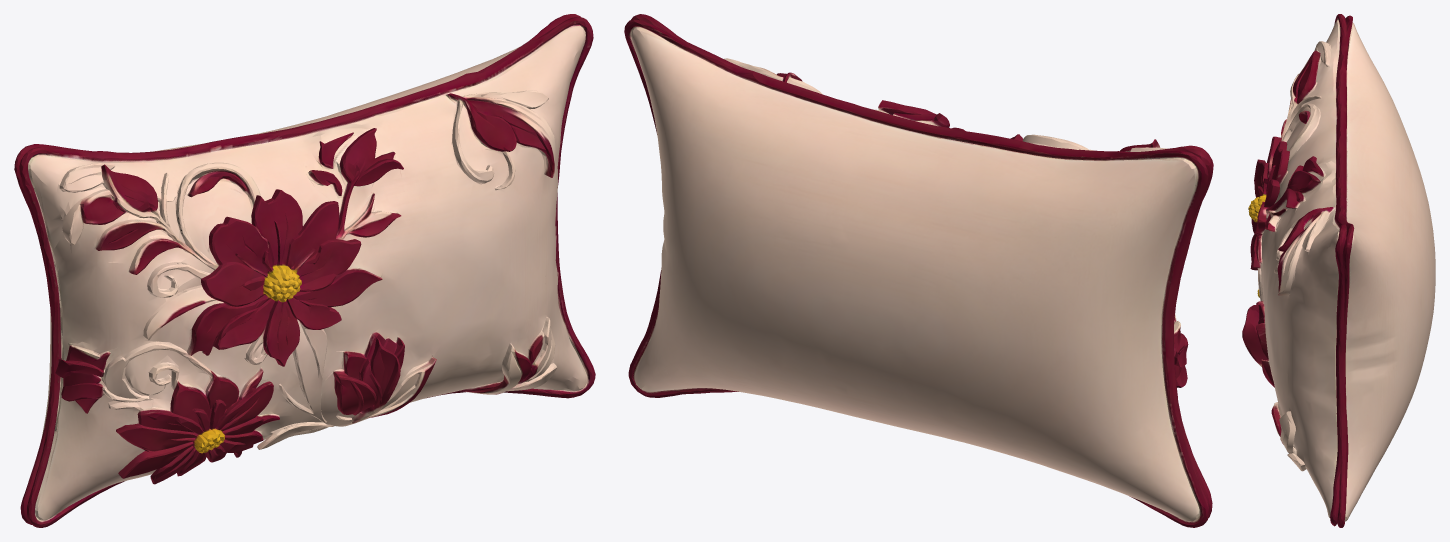
Rendered from pillow.glb.
3 renders of one model, left to right at view 1: azimuth 30°, elevation 25°; view 2: azimuth 150°, elevation 25°; view 3: azimuth 270°, elevation 25°, orthographic. The views are drawn at different scales.
Visible parts, largest first — view 1: model; view 2: model; view 3: model.
Boxes of the visible parts, box(x1,y1,x2,y2) form: model: box(14, 14, 595, 527); model: box(624, 14, 1213, 527); model: box(1242, 14, 1435, 527).
Bounding box in the file's own units: 1.9 × 1.19 × 0.6954.
1 material, 1 textured.
